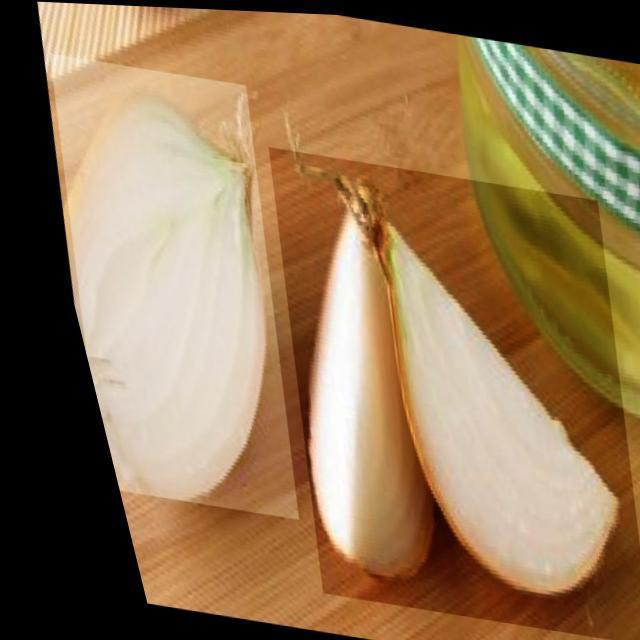Onion: (206, 142, 640, 640), (10, 51, 326, 519)
